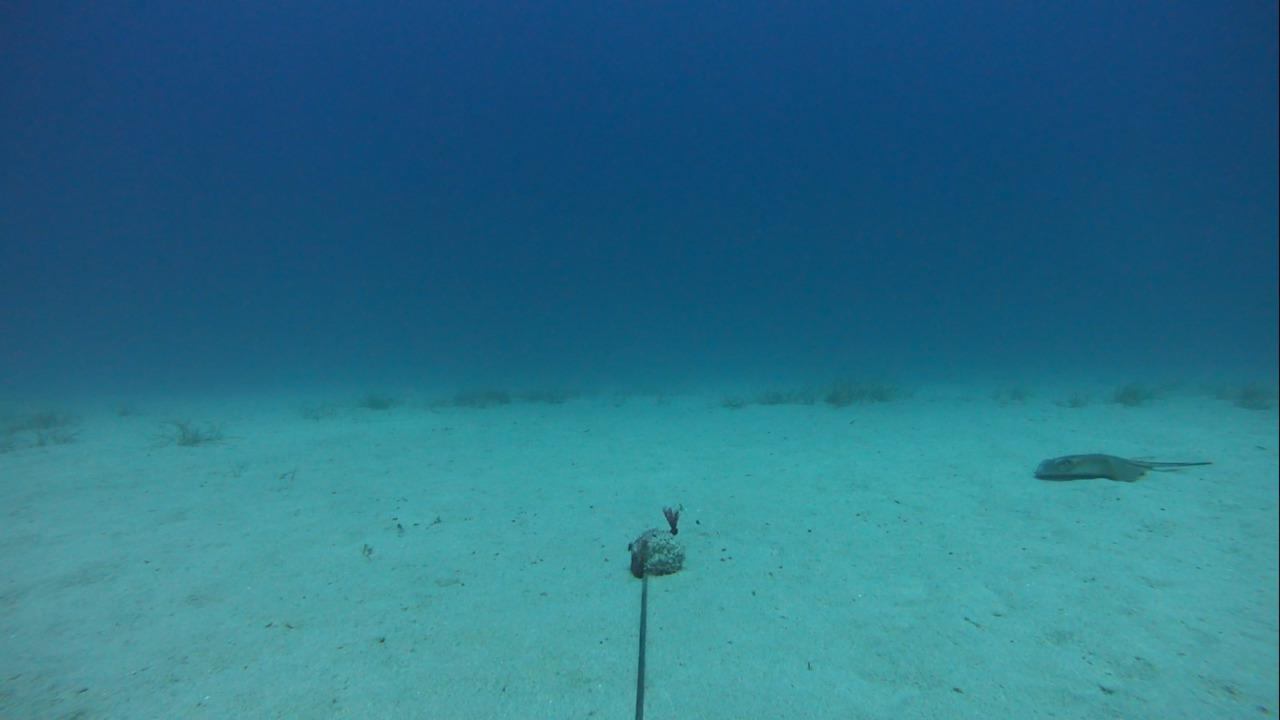myliobatis: (1025, 446, 1218, 487)
